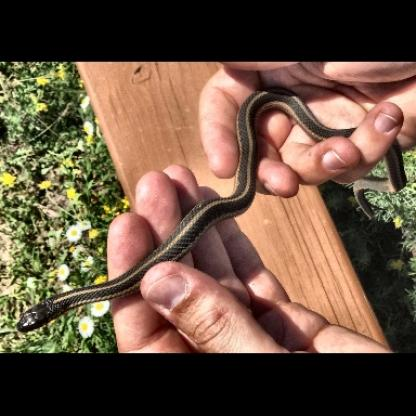Snake: (145, 76, 404, 286), (9, 276, 143, 340)
